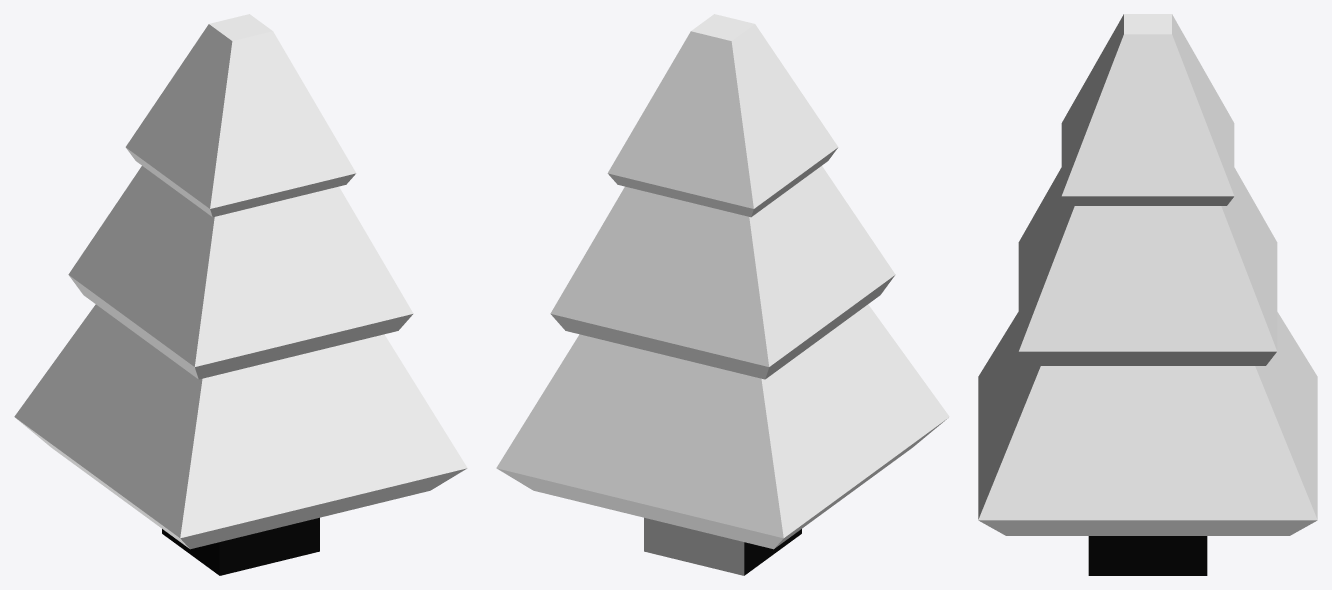
Rendered from tree01.fbx.
3 views of the same model, side by side, from view 1: azimuth 30°, elevation 25°; view 2: azimuth 150°, elevation 25°; view 3: azimuth 270°, elevation 25° (orthographic). The views are drawn at different scales.
Parts seen in each view (by area): view 1: copa; view 2: copa; view 3: copa.
Boxes of the visible parts, box(x1,y1,x2,y2) form: copa: box(14, 14, 467, 575); copa: box(496, 14, 949, 575); copa: box(978, 14, 1317, 575).
Size of the model in its own units: 76.72 by 131 by 76.72.
Materials: 1 (1 with a texture image).
